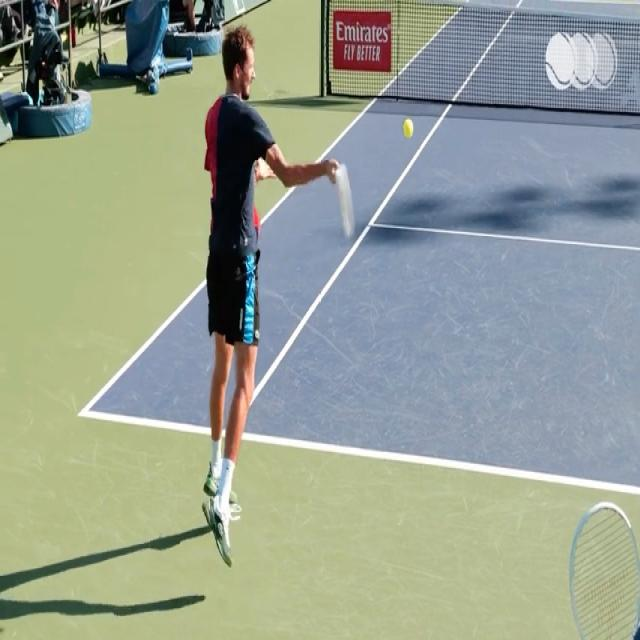forehand-stroke: (194, 27, 354, 573)
